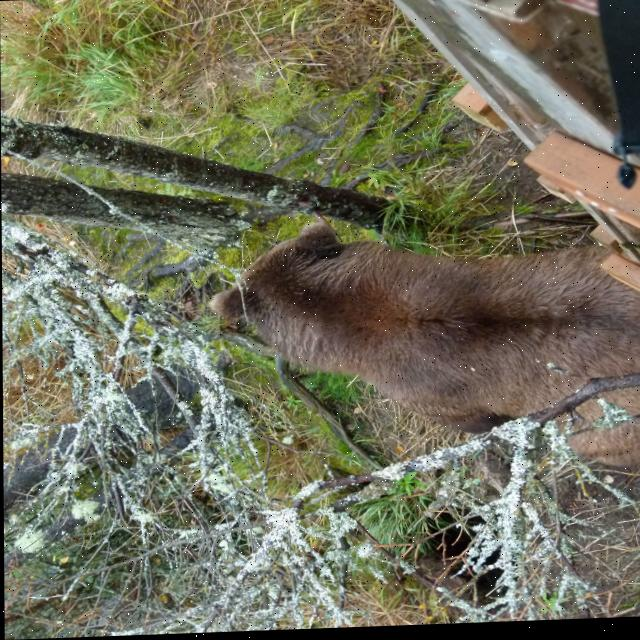bear face: (209, 216, 640, 482)
